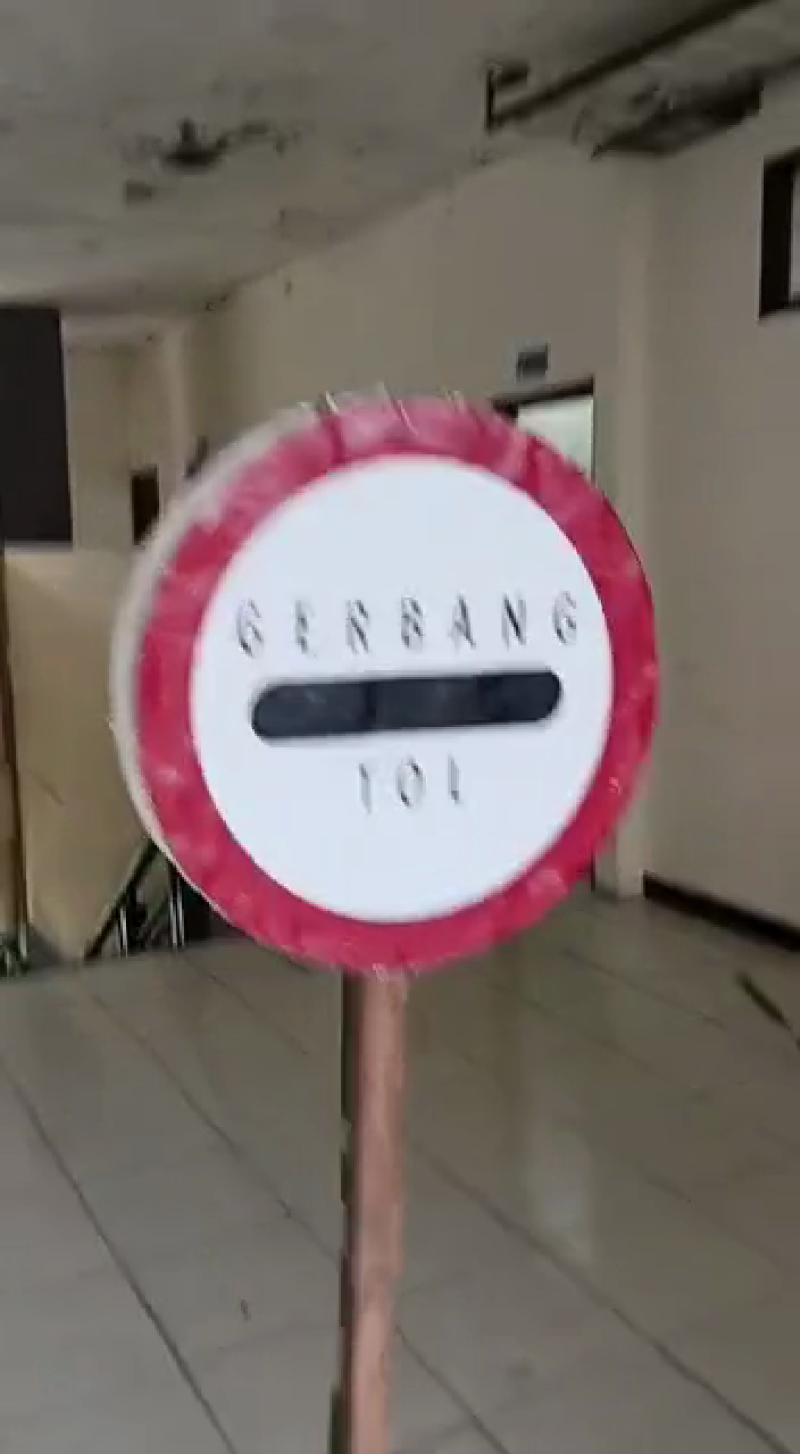gerbang tol: (120, 366, 666, 992)
